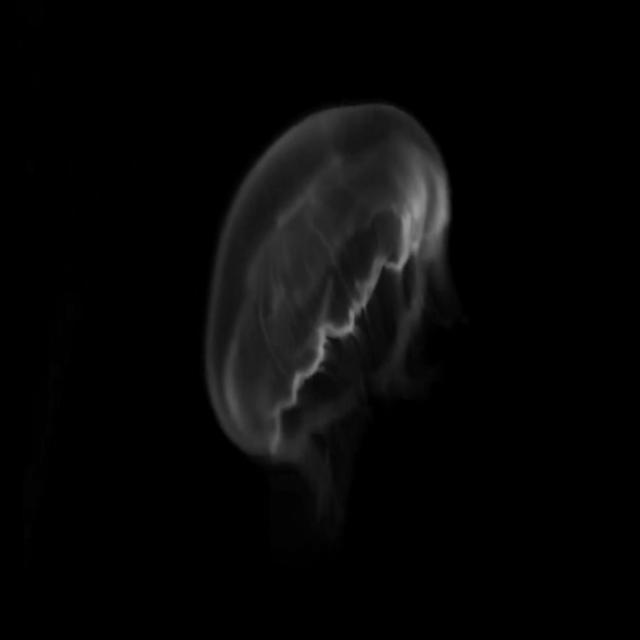Moon-jellyfish: (191, 93, 477, 469)
